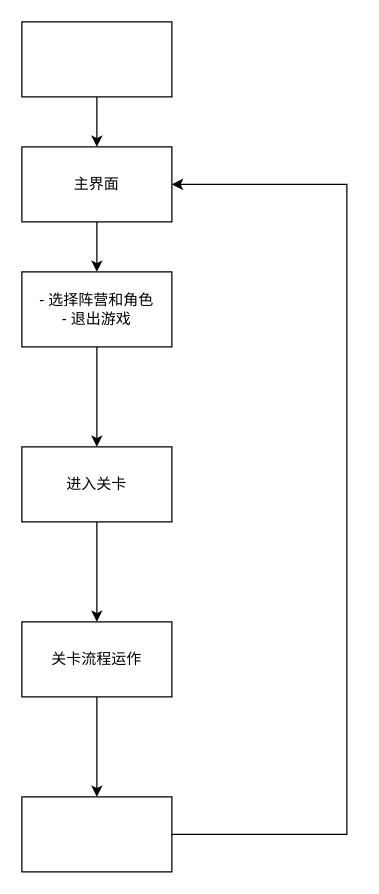
Image size: 379x894. Some labels were removed from this diagram. Each missing label, with the box of its shape:
时间结束或有玩家胜利: (21, 796, 172, 872)
登录&注册: (21, 21, 172, 97)
